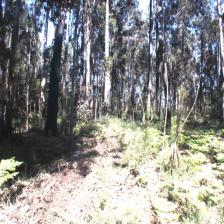trunktrack_idkeyframe: (44, 36, 64, 134), (69, 43, 77, 136)
